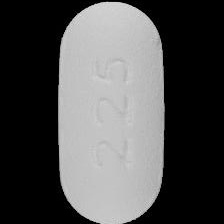63187-146: (0, 0, 224, 224)
